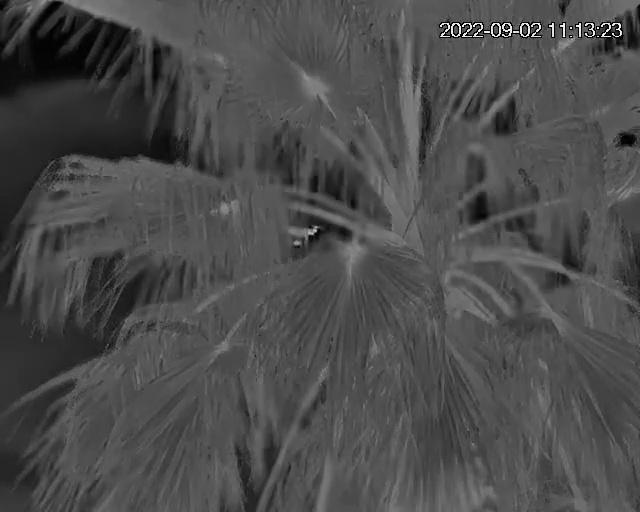DJI-Phantom: (280, 221, 324, 250)
